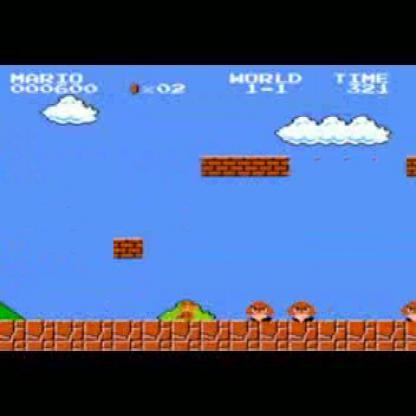Goomba: (288, 297, 319, 321), (242, 298, 273, 320), (400, 299, 414, 322)
